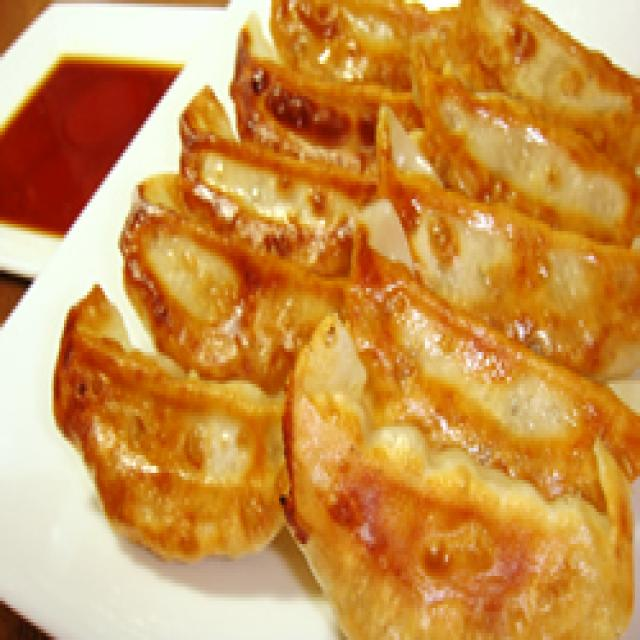带馅早点: (38, 0, 640, 626)
